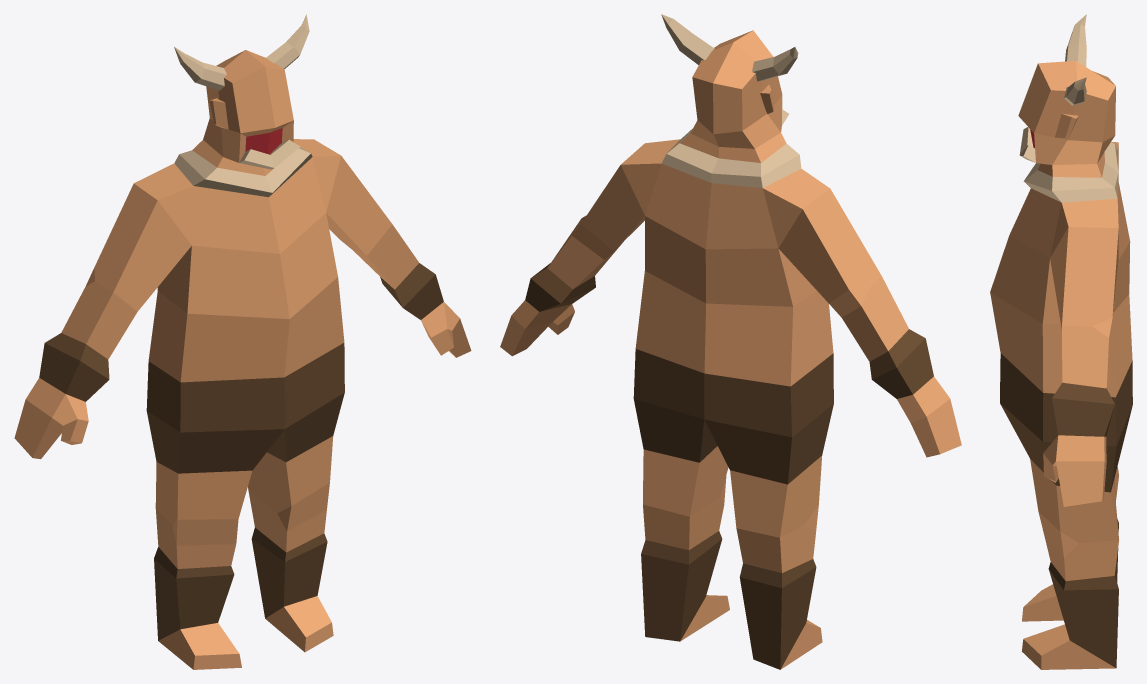
The model's file is giant.glb.
3 views of the same model, side by side, from view 1: azimuth 30°, elevation 25°; view 2: azimuth 150°, elevation 25°; view 3: azimuth 270°, elevation 25° (orthographic). The views are drawn at different scales.
Visible parts, largest first — view 1: giant; view 2: giant; view 3: giant.
Part boxes in pixels (box(x1,y1,x2,y2)): giant: box(14, 14, 471, 669); giant: box(500, 14, 961, 669); giant: box(990, 14, 1132, 669).
Size of the model in its own units: 2.17 by 2.86 by 0.6253.
1 material, 1 textured.
